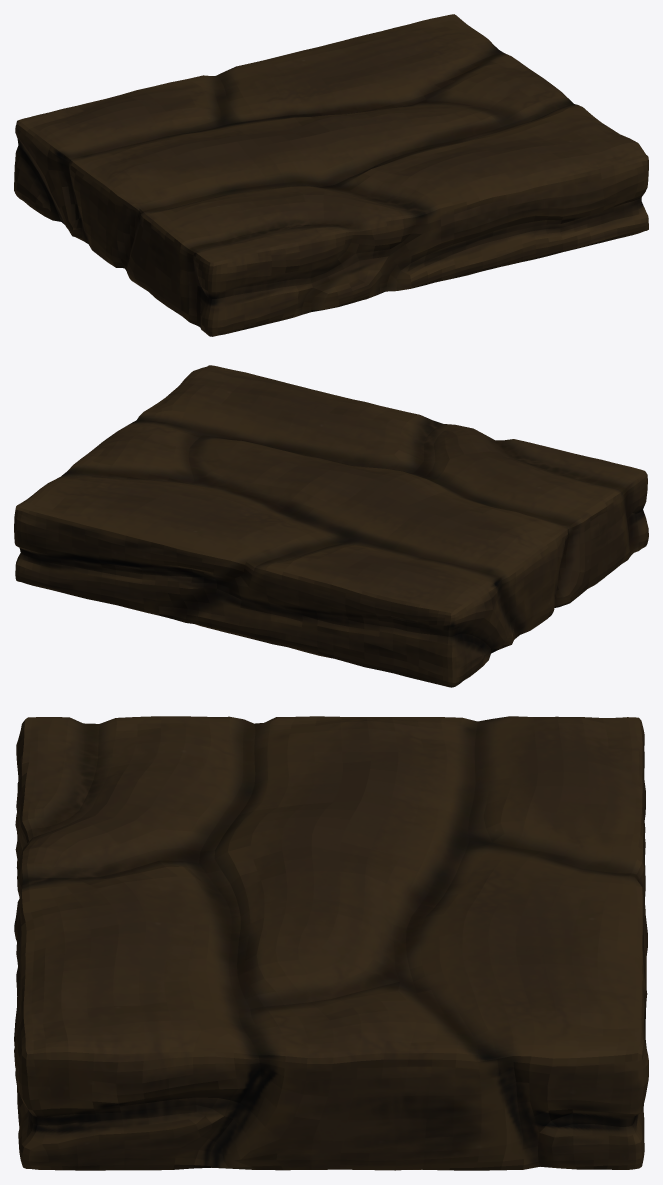
File: Small_Platform_1.fbx
The picture shows the model from 3 angles, top to bottom: view 1: azimuth 30°, elevation 25°; view 2: azimuth 150°, elevation 25°; view 3: azimuth 270°, elevation 25°; orthographic projection. The views are drawn at different scales.
Visible parts, largest first — view 1: Small_Platform_1:ZBrushPolyMesh3D; view 2: Small_Platform_1:ZBrushPolyMesh3D; view 3: Small_Platform_1:ZBrushPolyMesh3D.
Boxes of the visible parts, x1,y1,x2,y2 form: Small_Platform_1:ZBrushPolyMesh3D: (14, 14, 648, 336); Small_Platform_1:ZBrushPolyMesh3D: (14, 365, 648, 687); Small_Platform_1:ZBrushPolyMesh3D: (14, 716, 648, 1170).
Size of the model in its own units: 2 by 0.3855 by 1.55.
